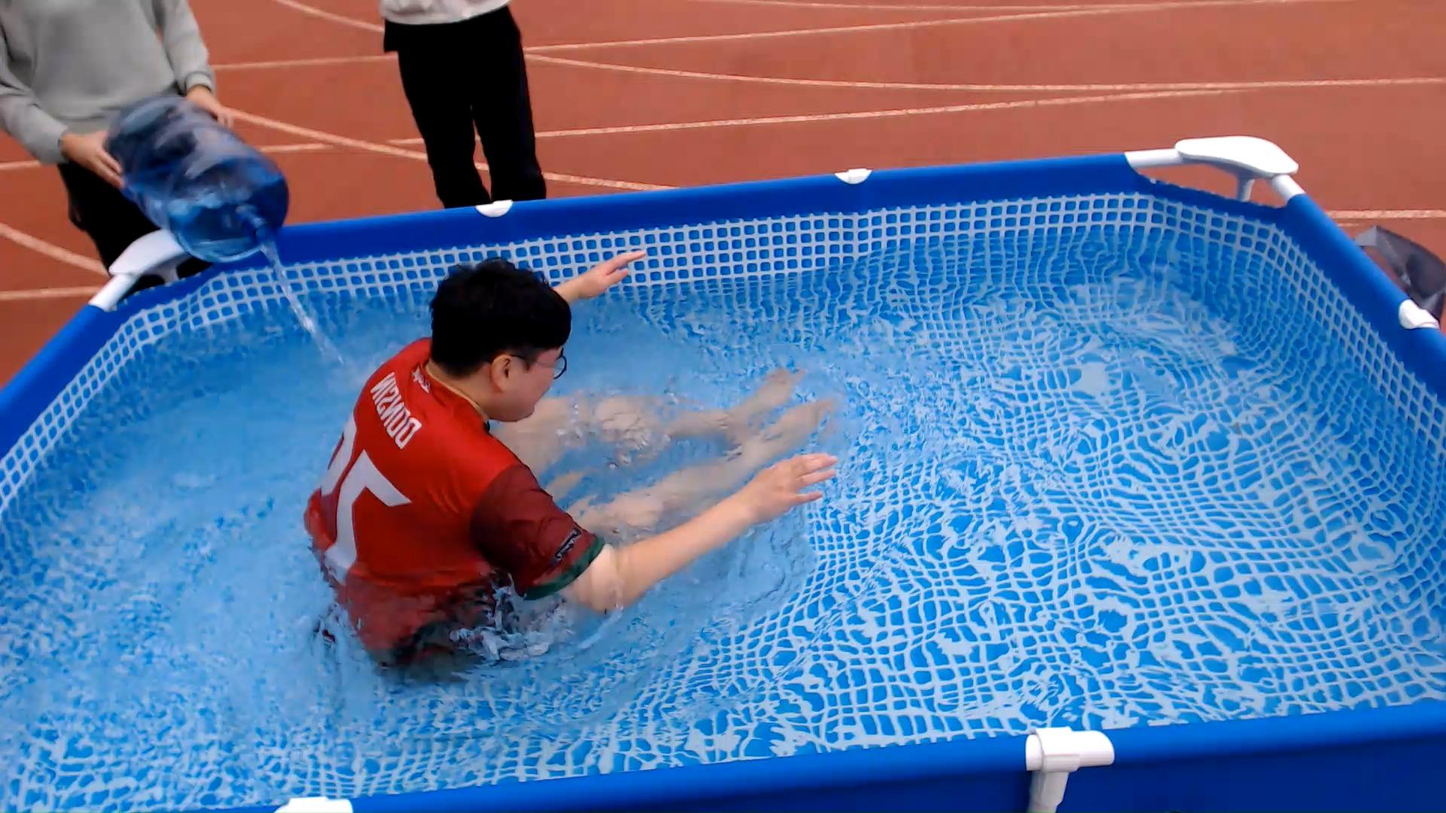Swimming: (267, 204, 857, 712)
